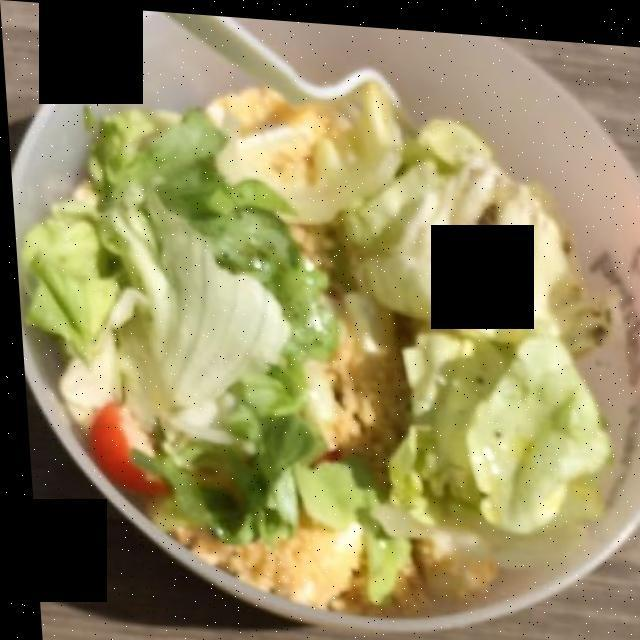salad: (28, 86, 605, 597)
